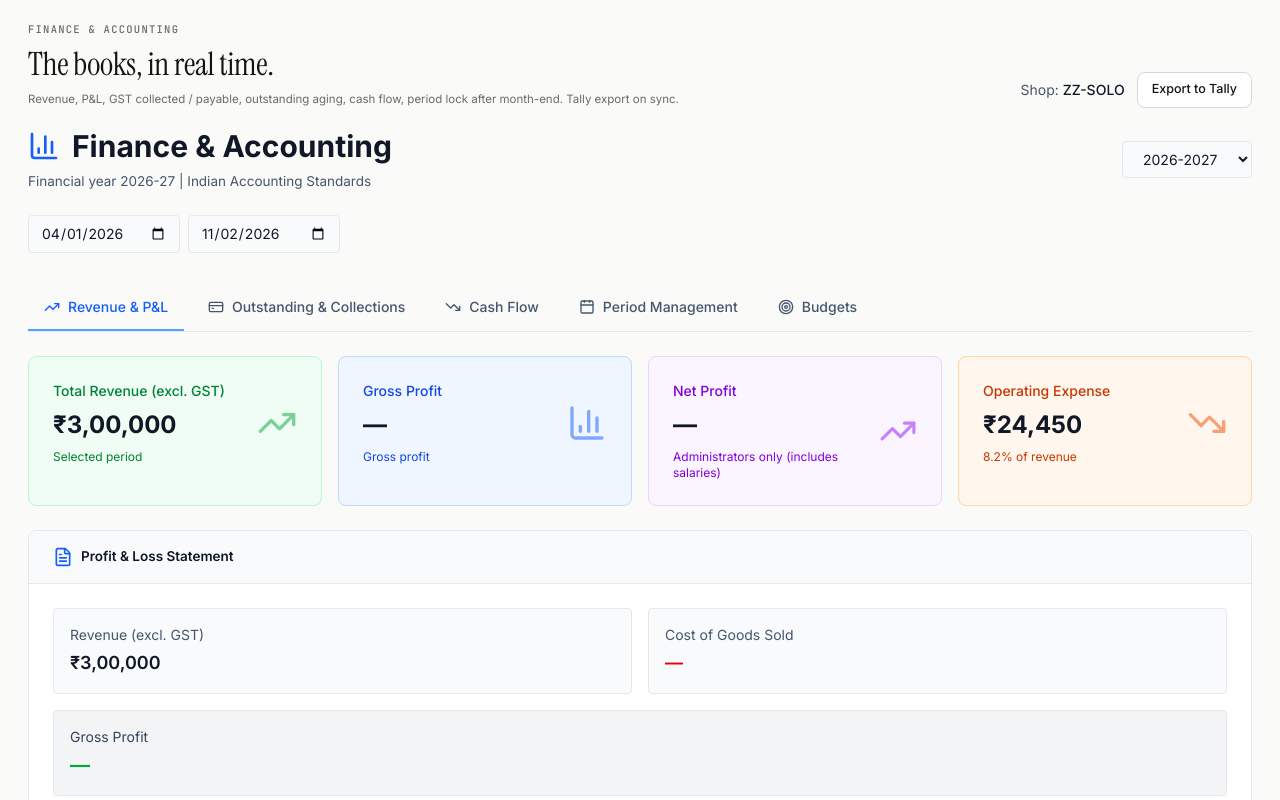
Test: FinanceDashboard budgets tab - the short budget declares itself › shows the banner on the budgets tab when categories were withheld
This screenshot has width=1280, height=800.
What coordinates should you click on to do the following:
click the button "Budgets"
I would click on:
 (817, 308)
Its box is [762,285,873,331].
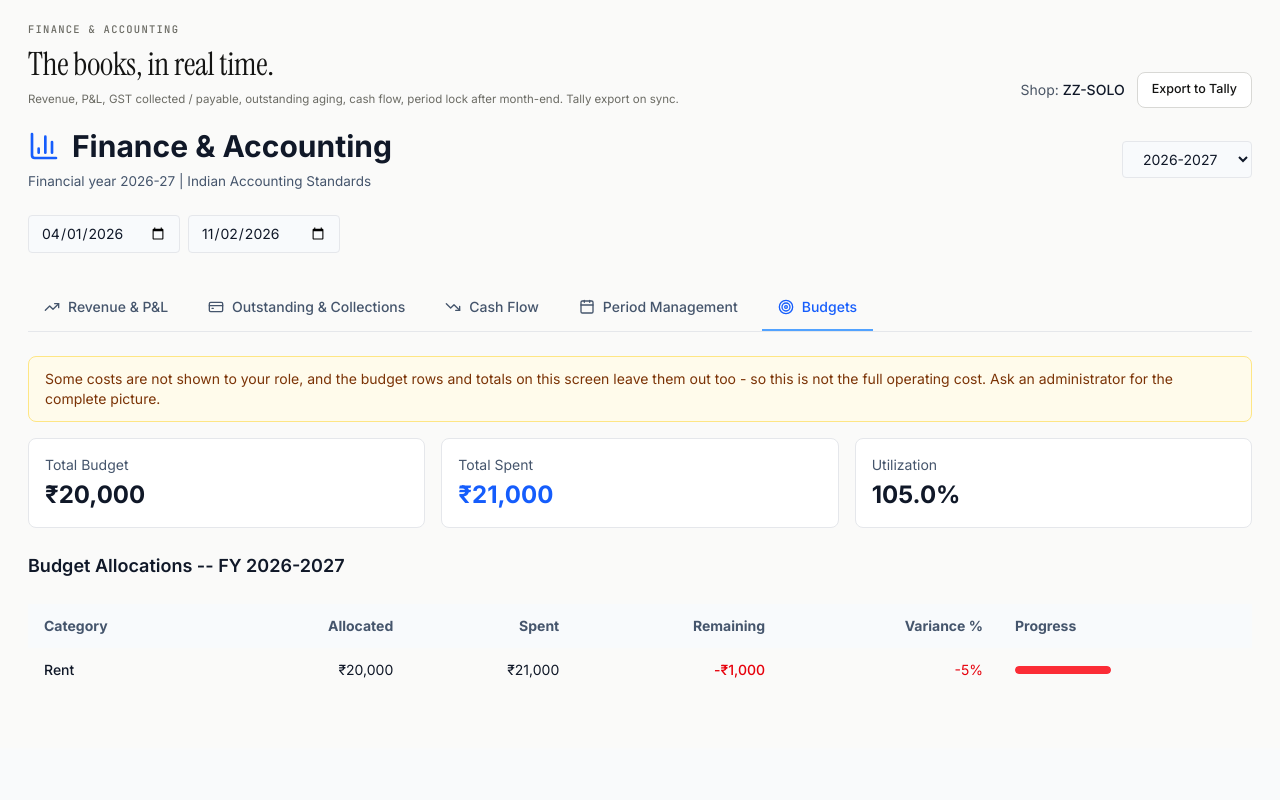
Expected: the message with test id "restricted-totals-notice" shows "not the full operating cost", [45,370,1173,407]
Expected: the message with test id "restricted-totals-notice" shows "budget rows and totals", [361,370,512,387]
